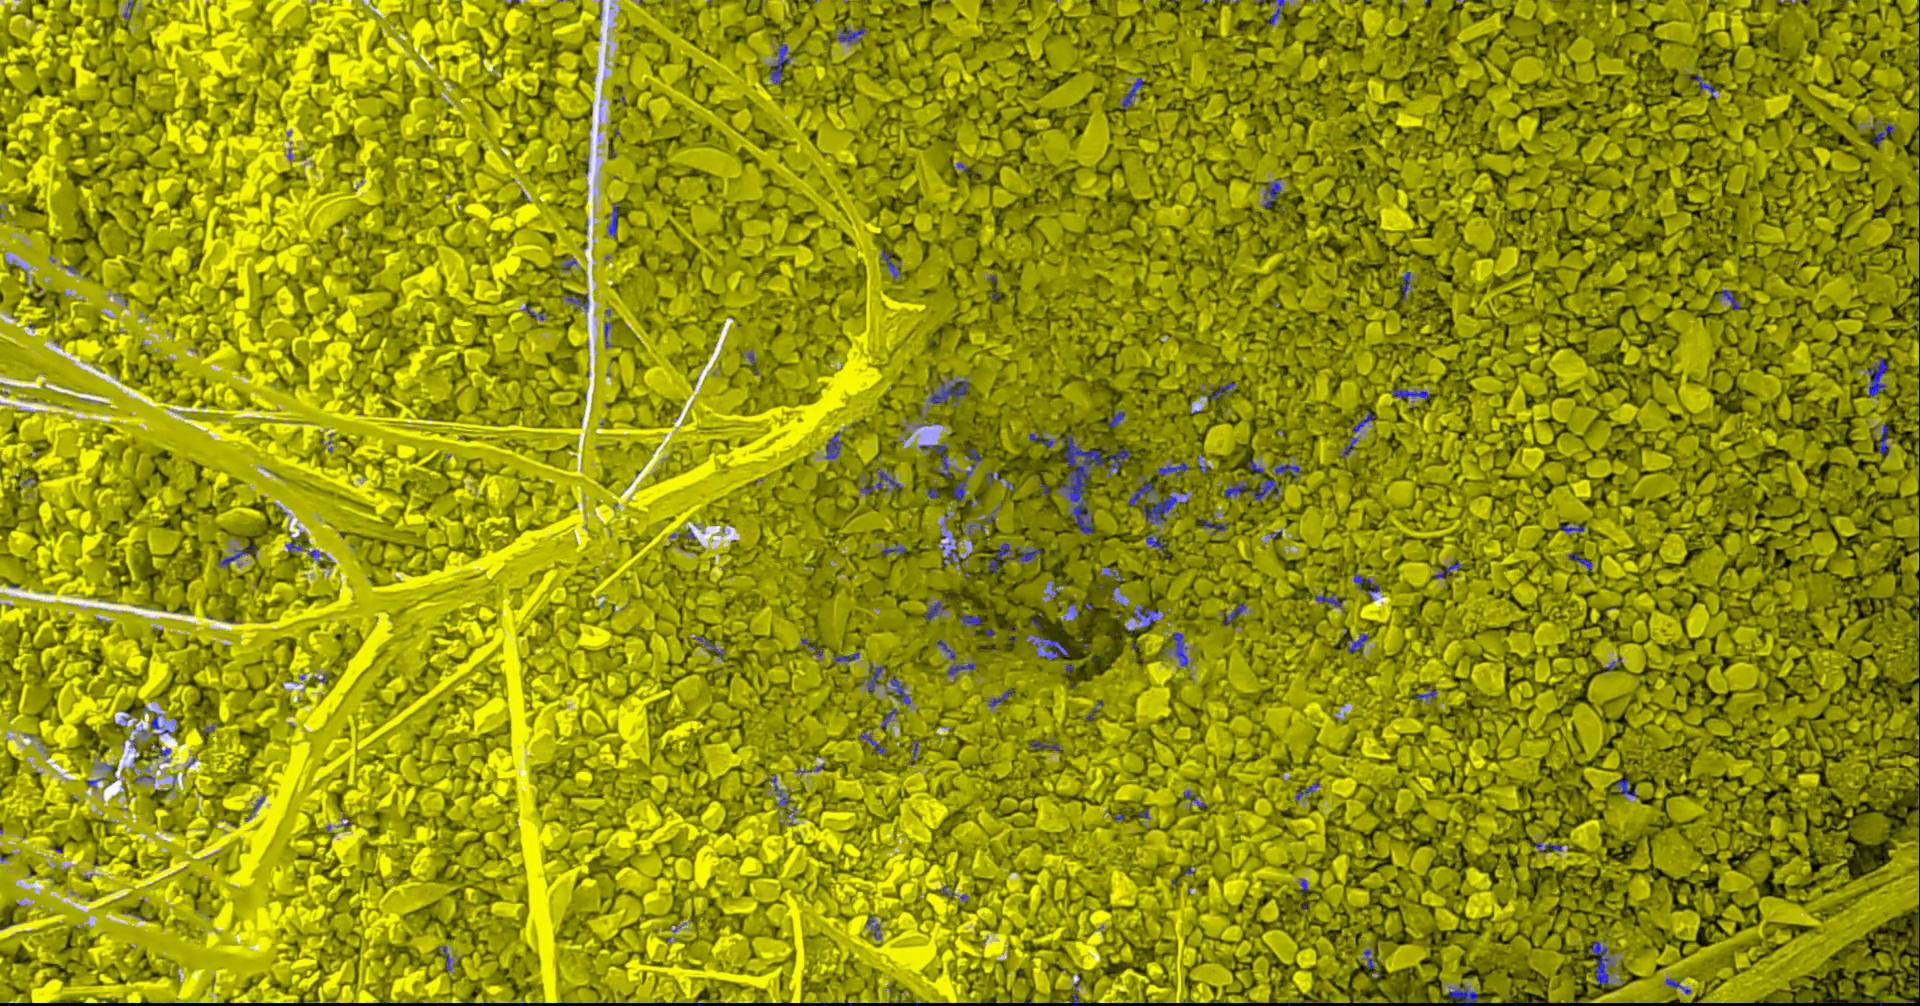ant: (955, 447, 983, 500), (1143, 495, 1187, 523), (919, 445, 955, 478), (861, 467, 903, 494), (1590, 940, 1614, 984), (931, 380, 970, 403), (220, 545, 260, 567), (1869, 356, 1890, 396), (1037, 635, 1069, 661), (772, 43, 792, 83), (695, 636, 725, 661), (1123, 77, 1145, 108), (1250, 478, 1280, 500), (989, 542, 1012, 573), (1691, 72, 1719, 97), (860, 730, 888, 754), (1129, 481, 1158, 504), (1448, 984, 1479, 1005), (1355, 574, 1382, 598), (1109, 448, 1131, 476), (1134, 605, 1161, 627), (772, 774, 790, 805), (1223, 602, 1247, 625), (891, 678, 912, 705), (883, 249, 902, 277), (869, 664, 886, 694), (1263, 180, 1283, 207), (1173, 633, 1189, 666), (1208, 381, 1236, 399), (827, 431, 844, 459), (1352, 412, 1377, 432), (1869, 124, 1895, 144), (1297, 781, 1321, 800), (990, 688, 1016, 706), (839, 27, 866, 43), (1349, 633, 1370, 653), (1269, 0, 1286, 24), (1437, 560, 1462, 578), (1159, 462, 1190, 476), (1200, 518, 1228, 533), (1394, 387, 1431, 399), (1570, 553, 1592, 570), (1185, 790, 1208, 808), (943, 539, 957, 567), (569, 292, 589, 311), (1276, 464, 1302, 479), (938, 639, 957, 659), (1073, 974, 1086, 1005), (803, 638, 824, 655), (1617, 779, 1638, 796), (1018, 547, 1045, 561), (1317, 593, 1346, 606), (1225, 481, 1250, 497), (1667, 978, 1691, 993), (1722, 290, 1741, 309), (926, 601, 945, 620), (883, 708, 900, 728), (1030, 433, 1055, 447), (949, 662, 977, 674), (1365, 949, 1379, 973), (1531, 842, 1563, 852), (869, 915, 883, 937), (1879, 423, 1890, 453), (1031, 739, 1062, 749), (610, 203, 618, 238), (1148, 533, 1166, 550), (883, 542, 907, 554), (1109, 412, 1126, 427), (834, 652, 861, 662), (1403, 271, 1412, 300), (961, 614, 982, 626), (1416, 688, 1437, 700), (287, 537, 303, 551), (444, 946, 453, 970), (1250, 459, 1265, 473), (1559, 525, 1586, 532), (1919, 909, 1920, 988)
